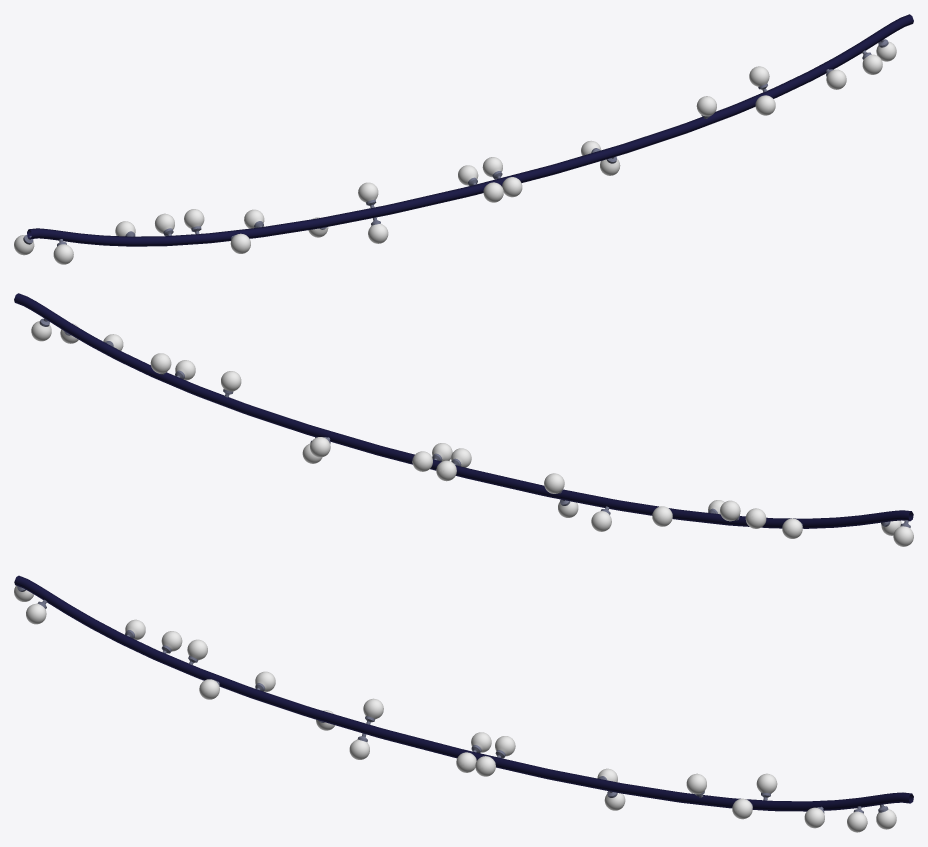
The model's file is guirlande suspendue(1).fbx.
3 views of the same model, one above another, from view 1: azimuth 30°, elevation 25°; view 2: azimuth 150°, elevation 25°; view 3: azimuth 330°, elevation 25° (orthographic).
Visible parts, largest first — view 1: BézierCurve; view 2: BézierCurve; view 3: BézierCurve.
Boxes of the visible parts, box(x1,y1,x2,y2) form: BézierCurve: box(14, 14, 913, 264); BézierCurve: box(14, 293, 913, 546); BézierCurve: box(14, 575, 913, 832).
Bounding box in the file's own units: 61.53 × 1009 × 100.
